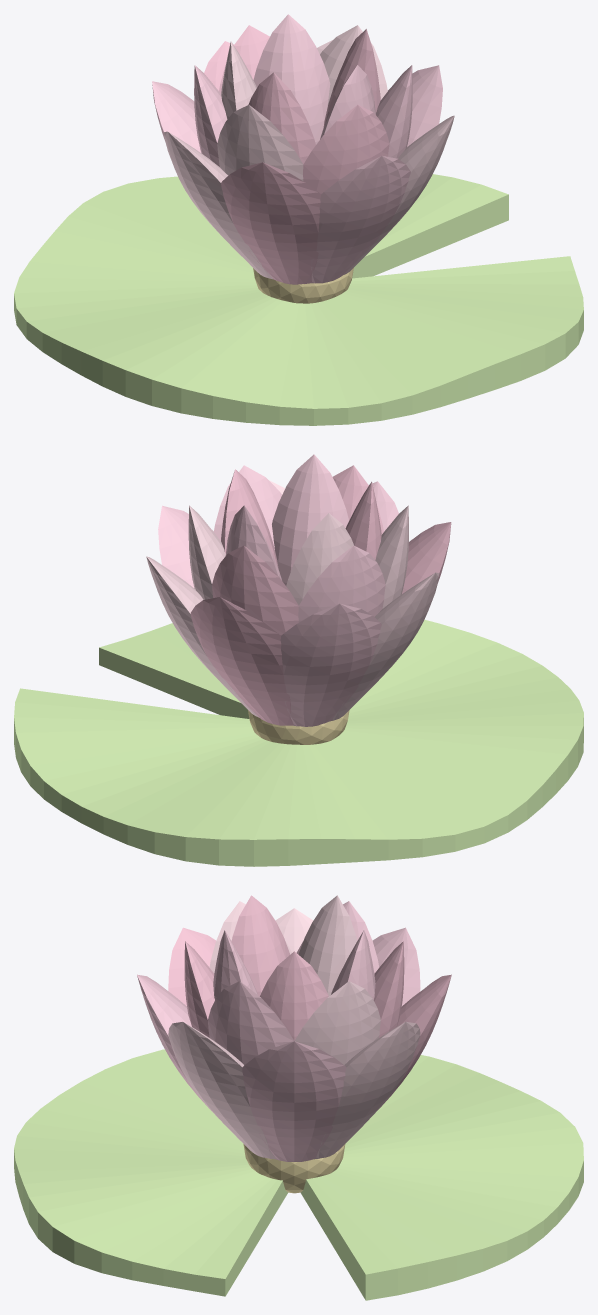
Rendered from lotus_pink_on_pad.glb.
3 views of the same model, one above another, from view 1: azimuth 30°, elevation 25°; view 2: azimuth 150°, elevation 25°; view 3: azimuth 270°, elevation 25° (orthographic).
Parts seen in each view (by area): view 1: lotus_pink_on_pad_00, lotus_pink_on_pad_07, lotus_pink_on_pad_08, lotus_pink_on_pad_17, lotus_pink_on_pad_14, lotus_pink_on_pad_06, lotus_pink_on_pad_13, lotus_pink_on_pad_19, lotus_pink_on_pad_09, lotus_pink_on_pad_15, lotus_pink_on_pad_12, lotus_pink_on_pad_05 (+8 smaller); view 2: lotus_pink_on_pad_00, lotus_pink_on_pad_05, lotus_pink_on_pad_04, lotus_pink_on_pad_20, lotus_pink_on_pad_11, lotus_pink_on_pad_12, lotus_pink_on_pad_06, lotus_pink_on_pad_18, lotus_pink_on_pad_03, lotus_pink_on_pad_10, lotus_pink_on_pad_13, lotus_pink_on_pad_07 (+8 smaller); view 3: lotus_pink_on_pad_00, lotus_pink_on_pad_02, lotus_pink_on_pad_09, lotus_pink_on_pad_03, lotus_pink_on_pad_10, lotus_pink_on_pad_15, lotus_pink_on_pad_16, lotus_pink_on_pad_18, lotus_pink_on_pad_19, lotus_pink_on_pad_01, lotus_pink_on_pad_08, lotus_pink_on_pad_04 (+9 smaller).
Boxes of the visible parts, x1,y1,x2,y2 form: lotus_pink_on_pad_00: [14, 174, 583, 425]; lotus_pink_on_pad_07: [221, 162, 320, 284]; lotus_pink_on_pad_08: [311, 156, 410, 283]; lotus_pink_on_pad_17: [253, 14, 330, 144]; lotus_pink_on_pad_14: [303, 105, 389, 194]; lotus_pink_on_pad_06: [164, 131, 272, 279]; lotus_pink_on_pad_13: [217, 105, 303, 180]; lotus_pink_on_pad_19: [248, 72, 315, 163]; lotus_pink_on_pad_09: [344, 115, 454, 274]; lotus_pink_on_pad_15: [376, 65, 412, 158]; lotus_pink_on_pad_12: [194, 65, 227, 166]; lotus_pink_on_pad_05: [152, 81, 201, 152]; lotus_pink_on_pad_00: [14, 619, 583, 866]; lotus_pink_on_pad_05: [280, 603, 381, 726]; lotus_pink_on_pad_04: [190, 597, 293, 725]; lotus_pink_on_pad_20: [272, 454, 348, 585]; lotus_pink_on_pad_11: [212, 545, 298, 635]; lotus_pink_on_pad_12: [298, 545, 385, 622]; lotus_pink_on_pad_06: [330, 572, 439, 721]; lotus_pink_on_pad_18: [286, 513, 353, 605]; lotus_pink_on_pad_03: [146, 556, 258, 717]; lotus_pink_on_pad_10: [188, 505, 225, 599]; lotus_pink_on_pad_13: [375, 505, 408, 608]; lotus_pink_on_pad_07: [402, 522, 451, 593]; lotus_pink_on_pad_00: [14, 1049, 583, 1300]; lotus_pink_on_pad_02: [242, 1041, 346, 1161]; lotus_pink_on_pad_09: [168, 1022, 275, 1159]; lotus_pink_on_pad_03: [314, 1022, 420, 1159]; lotus_pink_on_pad_10: [294, 981, 380, 1064]; lotus_pink_on_pad_15: [208, 981, 293, 1064]; lotus_pink_on_pad_16: [260, 951, 328, 1040]; lotus_pink_on_pad_18: [298, 895, 357, 996]; lotus_pink_on_pad_19: [231, 895, 290, 996]; lotus_pink_on_pad_01: [243, 1144, 345, 1193]; lotus_pink_on_pad_08: [137, 974, 224, 1124]; lotus_pink_on_pad_04: [361, 974, 451, 1127].
Bounding box in the file's own units: 1.4 × 0.7388 × 1.42.
